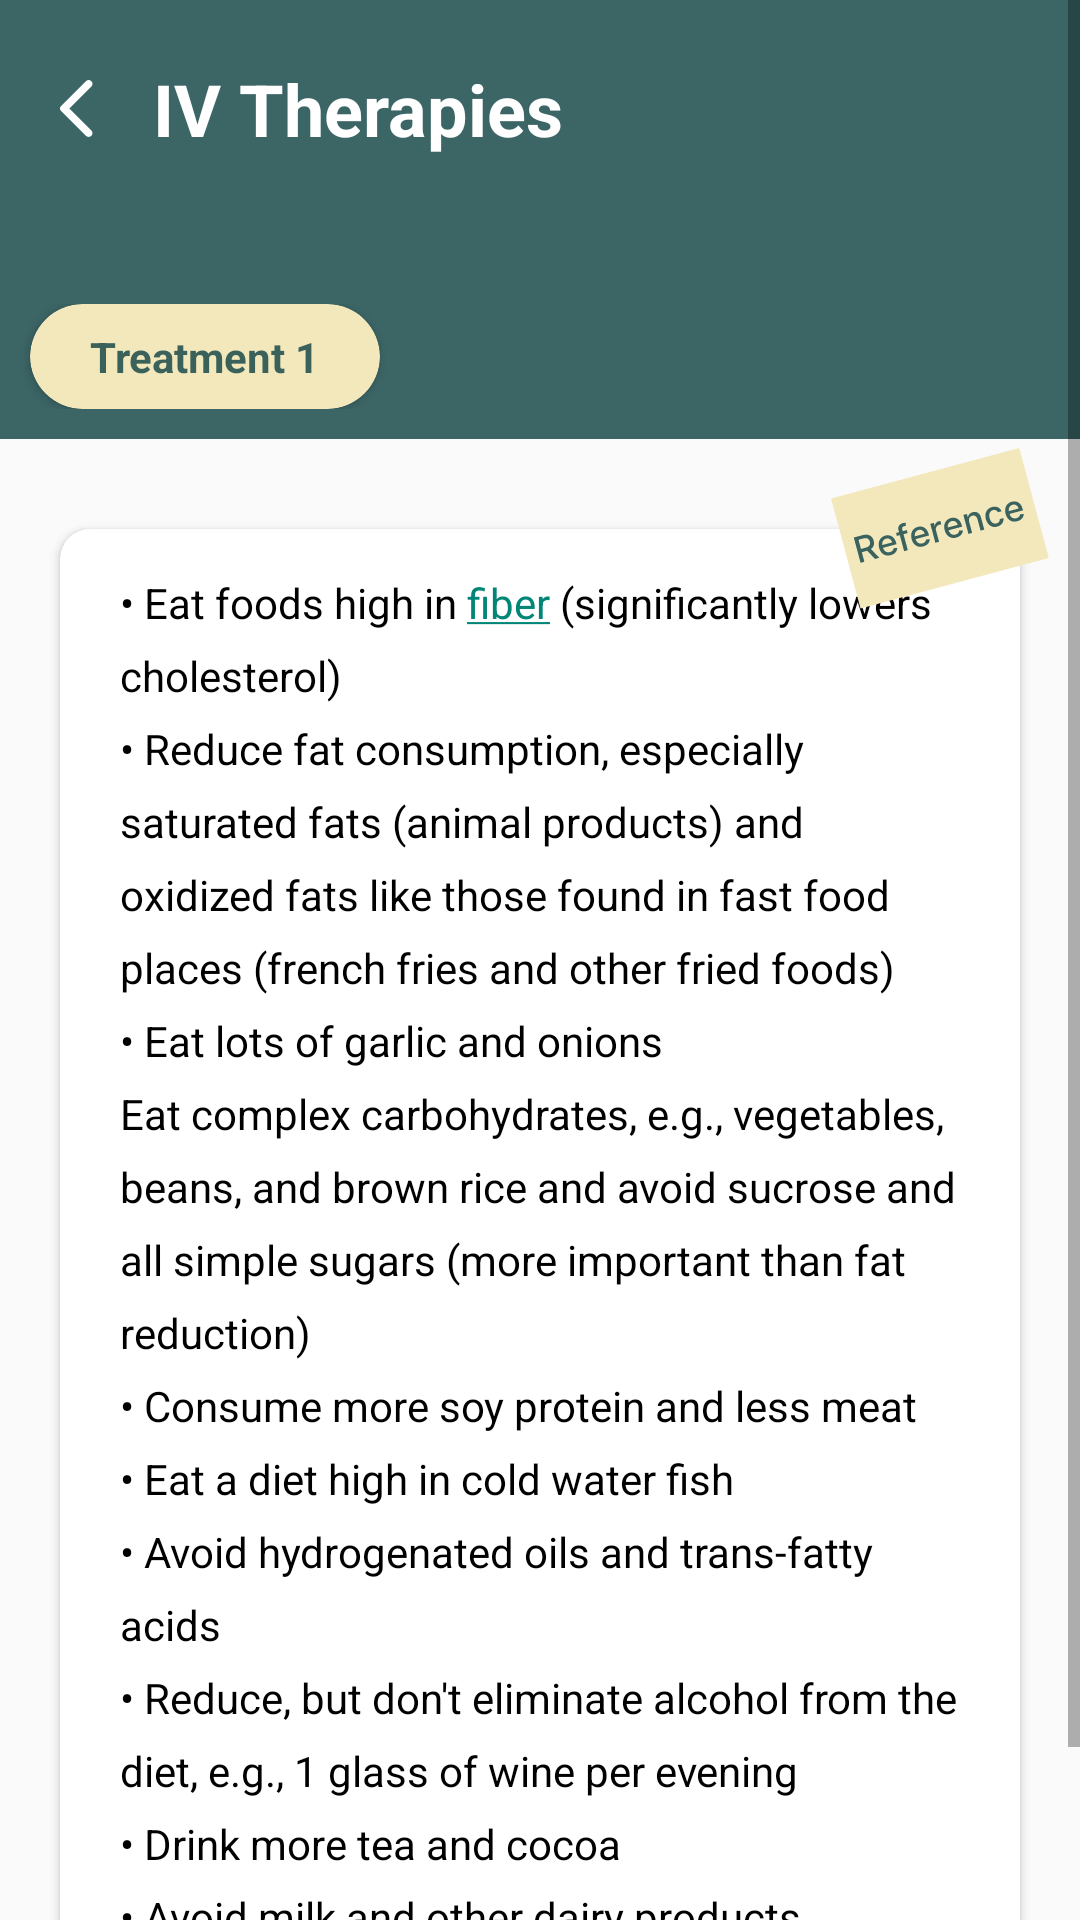

Named icons in this screenshot (1080 × 1920) and their bounding boxes, [left=x1, top=y1, right=x2, bottom=y2]:
back: [left=60, top=80, right=93, bottom=137]
